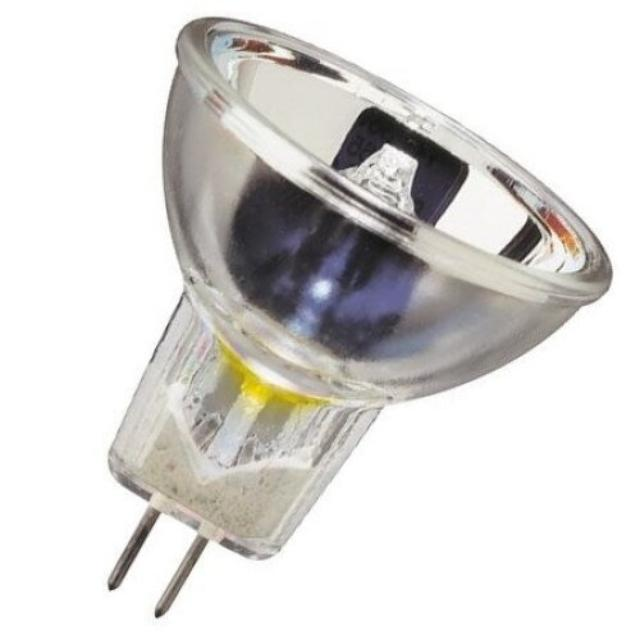light_bulb: (97, 11, 616, 615)
